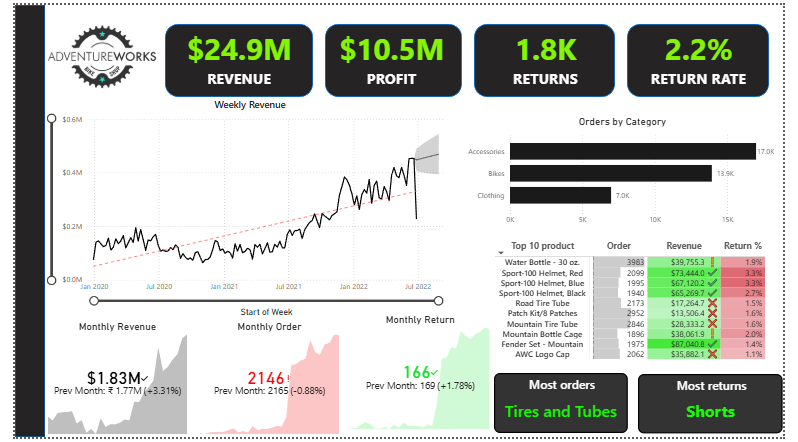

Layout of this report page (visuals, bound fields, positions):
{"tool":"powerbi","page":{"name":"Executive Dashboard","canvas":[1280,720],"ordinal":0},"visuals":[{"type":"shape","box":[0,0,50,720],"z":0},{"type":"card","fields":{"Values":["Measure table.Total profit"]},"box":[510.8,10,235.2,152.9],"z":0,"group":"g2"},{"type":"shape","box":[1020,31.7,236.7,121.7],"z":0,"group":"g1"},{"type":"card","fields":{"Values":["Measure table.Total revenue"]},"box":[256.8,10,233.7,152.9],"z":1000,"group":"g2"},{"type":"group","id":"g1","title":"KPIs","box":[250,31.7,1006.7,121.7],"z":1000},{"type":"shape","box":[765,31.7,235,121.7],"z":1000,"group":"g1"},{"type":"card","fields":{"Values":["Measure table.Total returns"]},"box":[766.3,10,235,155],"z":2000,"group":"g2"},{"type":"shape","box":[516.7,31.7,228.3,121.7],"z":2000,"group":"g1"},{"type":"lineChart","title":"Weekly Revenue","fields":{"Category":["Calendar Lookup.Start of Week"],"Y":["Measure table.Total revenue"]},"box":[50,155.6,683.3,370],"z":2000},{"type":"card","fields":{"Values":["Measure table.Return rate %"]},"box":[1021.7,10,235,153.3],"z":3000,"group":"g2"},{"type":"shape","box":[250,31.7,246.7,121.7],"z":3000,"group":"g1"},{"type":"kpi","title":"Monthly Revenue","fields":{"Indicator":["Measure table.Total revenue"],"TrendLine":["Calendar Lookup.Start of Month"],"Goal":["Measure table.Previous month revenue"]},"box":[50,525,241.7,195],"z":3000},{"type":"kpi","title":"Monthly Order","fields":{"TrendLine":["Calendar Lookup.Start of Month"],"Indicator":["Measure table.Total order"],"Goal":["Measure table.Previous month orders"]},"box":[303.3,525,241.7,195],"z":4000},{"type":"kpi","title":"Monthly Return","fields":{"TrendLine":["Calendar Lookup.Start of Month"],"Indicator":["Measure table.Total returns"],"Goal":["Measure table.Previous month returns"]},"box":[555.5,513.6,240.9,199.1],"z":5000},{"type":"clusteredBarChart","title":"Orders by Category","fields":{"Category":["Categories Lookup.CategoryName"],"Y":["Measure table.Total order"]},"box":[744.3,182.9,535.7,192.9],"z":6000},{"type":"pivotTable","fields":{"Rows":["Categories Lookup.CategoryName","Product Lookup.ProductName"],"Values":["Measure table.Total order","Measure table.Total revenue","Measure table.Return rate %"]},"box":[795.7,385.7,484.3,225.7],"z":7000},{"type":"card","title":"Most orders ","fields":{"Values":["Min(Product Subcategories Lookup.SubcategoryName)"]},"box":[798.6,613.2,222.9,100],"z":8000},{"type":"card","title":"Most returns","fields":{"Values":["Min(Product Subcategories Lookup.SubcategoryName)"]},"box":[1038.6,614.6,241.4,98.6],"z":9000},{"type":"group","id":"g2","title":"KPIs cards","box":[256.8,10,999.9,155],"z":10000},{"type":"image","box":[35.7,28.6,221.4,115.7],"z":11000}]}

Visuals, with their boxes in screenshot pixels (x1, y1, x2, y2), scaled from the page's 1280x720 canvas onto the 798x442 screenshot:
shape: rect(0, 0, 31, 441)
card - Measure table.Total profit: rect(318, 6, 465, 100)
shape: rect(636, 19, 783, 94)
card - Measure table.Total revenue: rect(160, 6, 306, 100)
"KPIs" group: rect(156, 19, 783, 94)
shape: rect(477, 19, 623, 94)
card - Measure table.Total returns: rect(478, 6, 624, 101)
shape: rect(322, 19, 464, 94)
"Weekly Revenue" lineChart: rect(31, 96, 457, 323)
card - Measure table.Return rate %: rect(637, 6, 783, 100)
shape: rect(156, 19, 310, 94)
"Monthly Revenue" kpi: rect(31, 322, 182, 441)
"Monthly Order" kpi: rect(189, 322, 340, 441)
"Monthly Return" kpi: rect(346, 315, 497, 438)
"Orders by Category" clusteredBarChart: rect(464, 112, 797, 231)
pivotTable - Categories Lookup.CategoryName x Product Lookup.ProductName: rect(496, 237, 797, 375)
"Most orders " card: rect(498, 376, 637, 438)
"Most returns" card: rect(648, 377, 797, 438)
"KPIs cards" group: rect(160, 6, 783, 101)
image: rect(22, 18, 160, 89)
